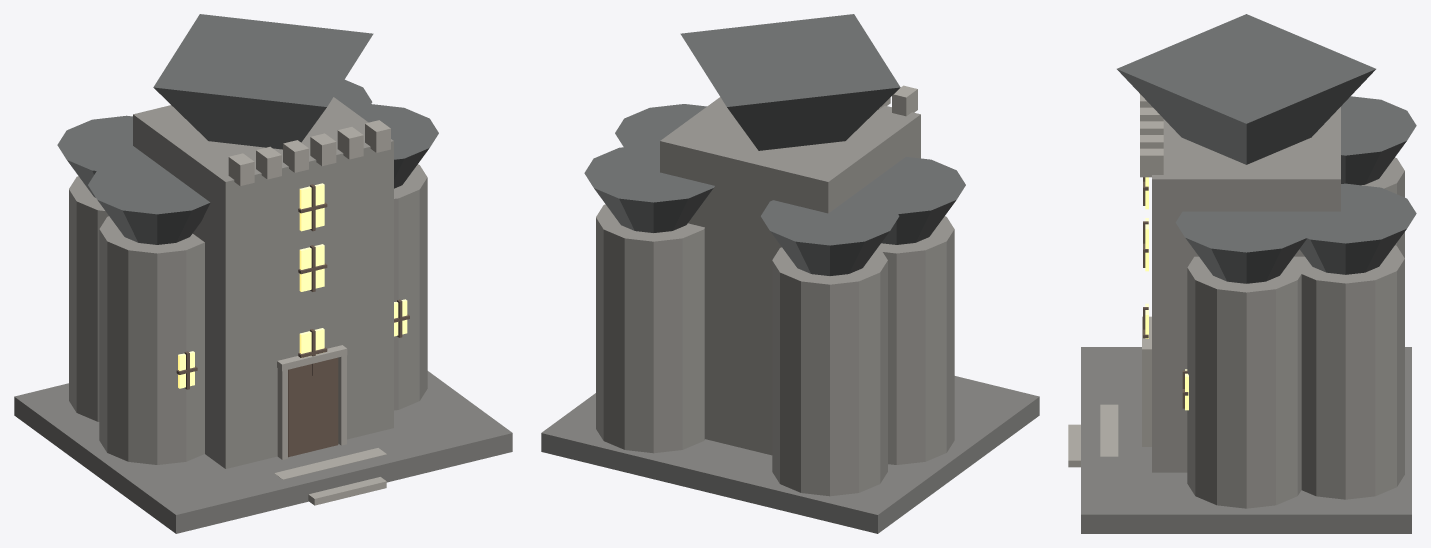
Rendered from Midgard_Elder_House_V1_YUP.glb.
3 renders of one model, left to right at view 1: azimuth 30°, elevation 25°; view 2: azimuth 150°, elevation 25°; view 3: azimuth 270°, elevation 25°, orthographic. The views are drawn at different scales.
Parts seen in each view (by area): view 1: Elder_Keep, Elder_Foundation, Elder_Tower_-2.65_0, Elder_MainRoof, Elder_Tower_2.65_0, Elder_Tower_-2.2_-2.1, Elder_TowerRoof_-2.65_0, Elder_Door, Elder_TowerRoof_-2.2_-2.1, Elder_TowerRoof_2.65_0, Elder_Step2, Elder_Door_L (+12 smaller); view 2: Elder_Keep, Elder_Tower_-2.2_-2.1, Elder_Tower_2.2_-2.1, Elder_Foundation, Elder_MainRoof, Elder_Tower_-2.65_0, Elder_TowerRoof_-2.2_-2.1, Elder_TowerRoof_2.2_-2.1, Elder_TowerRoof_-2.65_0, Elder_TowerRoof_2.65_0, Elder_Battlement_-1.7; view 3: Elder_Tower_2.65_0, Elder_Tower_2.2_-2.1, Elder_Foundation, Elder_MainRoof, Elder_Keep, Elder_TowerRoof_2.65_0, Elder_TowerRoof_2.2_-2.1, Elder_TowerRoof_-2.2_-2.1, Elder_Step0, Elder_Door_R, Elder_Tower_-2.2_-2.1, Elder_Battlement_1.7 (+1 smaller).
Boxes of the visible parts, bbox=[...] form: Elder_Keep: bbox=[133, 97, 393, 468]; Elder_Foundation: bbox=[14, 371, 512, 533]; Elder_Tower_-2.65_0: bbox=[99, 216, 204, 464]; Elder_MainRoof: bbox=[153, 14, 373, 149]; Elder_Tower_2.65_0: bbox=[394, 164, 427, 410]; Elder_Tower_-2.2_-2.1: bbox=[69, 176, 108, 421]; Elder_TowerRoof_-2.65_0: bbox=[88, 156, 210, 244]; Elder_Door: bbox=[288, 357, 338, 457]; Elder_TowerRoof_-2.2_-2.1: bbox=[57, 115, 147, 197]; Elder_TowerRoof_2.65_0: bbox=[347, 104, 438, 188]; Elder_Step2: bbox=[308, 477, 386, 505]; Elder_Door_L: bbox=[277, 365, 287, 459]; Elder_Keep: bbox=[660, 97, 920, 455]; Elder_Tower_-2.2_-2.1: bbox=[772, 247, 887, 496]; Elder_Tower_2.2_-2.1: bbox=[596, 204, 704, 453]; Elder_Foundation: bbox=[541, 376, 1039, 533]; Elder_MainRoof: bbox=[680, 14, 900, 150]; Elder_Tower_-2.65_0: bbox=[878, 216, 954, 464]; Elder_TowerRoof_-2.2_-2.1: bbox=[761, 190, 899, 275]; Elder_TowerRoof_2.2_-2.1: bbox=[584, 144, 714, 232]; Elder_TowerRoof_-2.65_0: bbox=[843, 156, 965, 244]; Elder_TowerRoof_2.65_0: bbox=[615, 104, 706, 159]; Elder_Battlement_-1.7: bbox=[892, 85, 917, 116]; Elder_Tower_2.65_0: bbox=[1187, 256, 1305, 508]; Elder_Tower_2.2_-2.1: bbox=[1289, 245, 1404, 499]; Elder_Foundation: bbox=[1081, 347, 1411, 533]; Elder_MainRoof: bbox=[1117, 14, 1375, 164]; Elder_Keep: bbox=[1152, 107, 1340, 472]; Elder_TowerRoof_2.65_0: bbox=[1175, 211, 1317, 283]; Elder_TowerRoof_2.2_-2.1: bbox=[1299, 183, 1416, 274]; Elder_TowerRoof_-2.2_-2.1: bbox=[1341, 96, 1416, 185]; Elder_Step0: bbox=[1100, 404, 1118, 456]; Elder_Door_R: bbox=[1142, 356, 1151, 446]; Elder_Tower_-2.2_-2.1: bbox=[1362, 157, 1404, 257]; Elder_Battlement_1.7: bbox=[1140, 148, 1163, 177].
Size of the model in its own units: 8.4 by 8.89 by 7.37.
